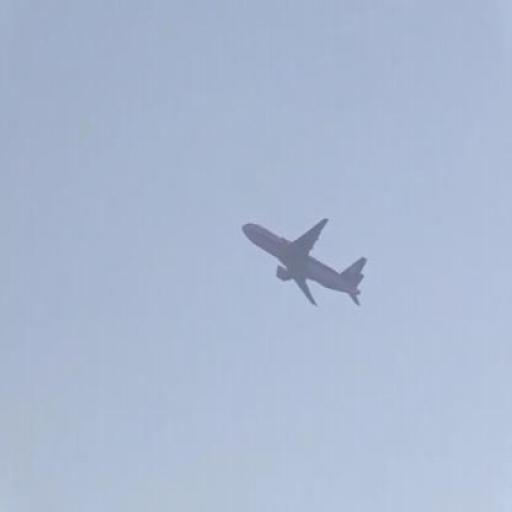aircraft: (241, 218, 368, 309)
